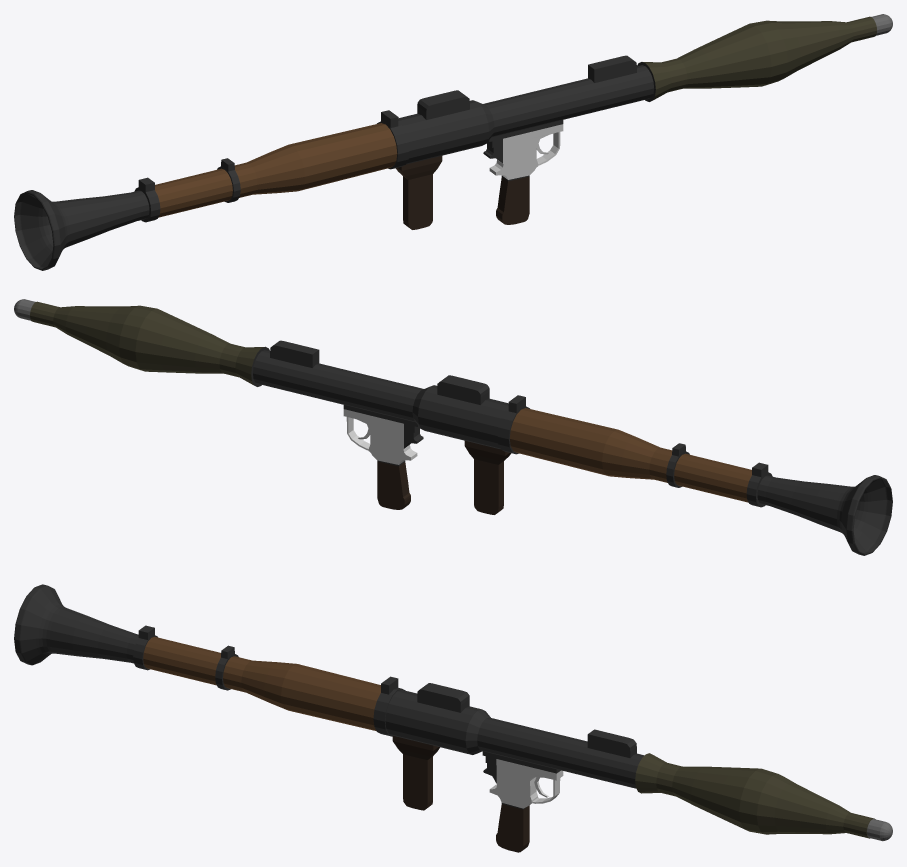
The picture shows the model from 3 angles, top to bottom: view 1: azimuth 30°, elevation 25°; view 2: azimuth 150°, elevation 25°; view 3: azimuth 330°, elevation 25°; orthographic projection.
Visible parts, largest first — view 1: Object_2, Object_7, Object_3, Object_4, Object_6; view 2: Object_2, Object_7, Object_3, Object_4, Object_6; view 3: Object_2, Object_7, Object_3, Object_4, Object_6.
Part boxes in pixels (<box>): Object_2: <box>14,55,655,270</box>; Object_7: <box>643,16,876,100</box>; Object_3: <box>155,123,397,217</box>; Object_4: <box>396,156,529,229</box>; Object_6: <box>489,124,563,179</box>; Object_2: <box>251,340,892,555</box>; Object_7: <box>30,301,264,385</box>; Object_3: <box>509,408,751,502</box>; Object_4: <box>377,441,510,514</box>; Object_6: <box>343,409,417,464</box>; Object_2: <box>14,584,644,809</box>; Object_7: <box>635,753,875,838</box>; Object_3: <box>143,636,380,730</box>; Object_4: <box>392,736,529,852</box>; Object_6: <box>489,759,563,808</box>.
Size of the model in its own units: 7.36 by 1.18 by 0.6072.
